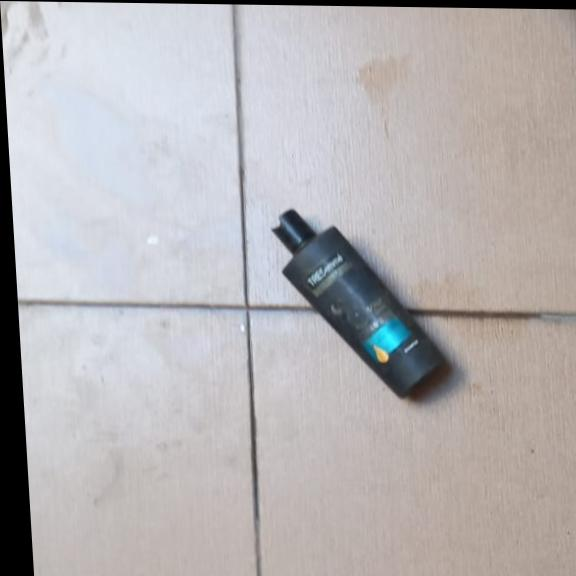Plastik: (269, 206, 446, 401)
